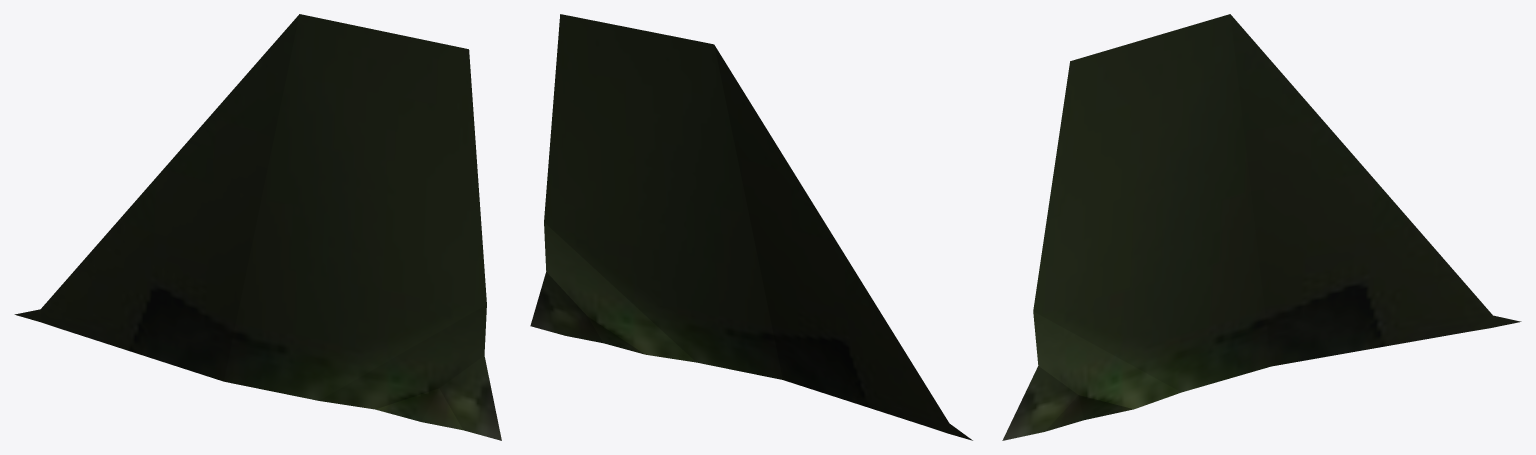
3 renders of one model, left to right at view 1: azimuth 30°, elevation 25°; view 2: azimuth 210°, elevation 25°; view 3: azimuth 270°, elevation 25°, orthographic. The views are drawn at different scales.
Size of the model in its own units: 6.32 by 9.42 by 11.65.
Materials: 1 (1 with a texture image).
